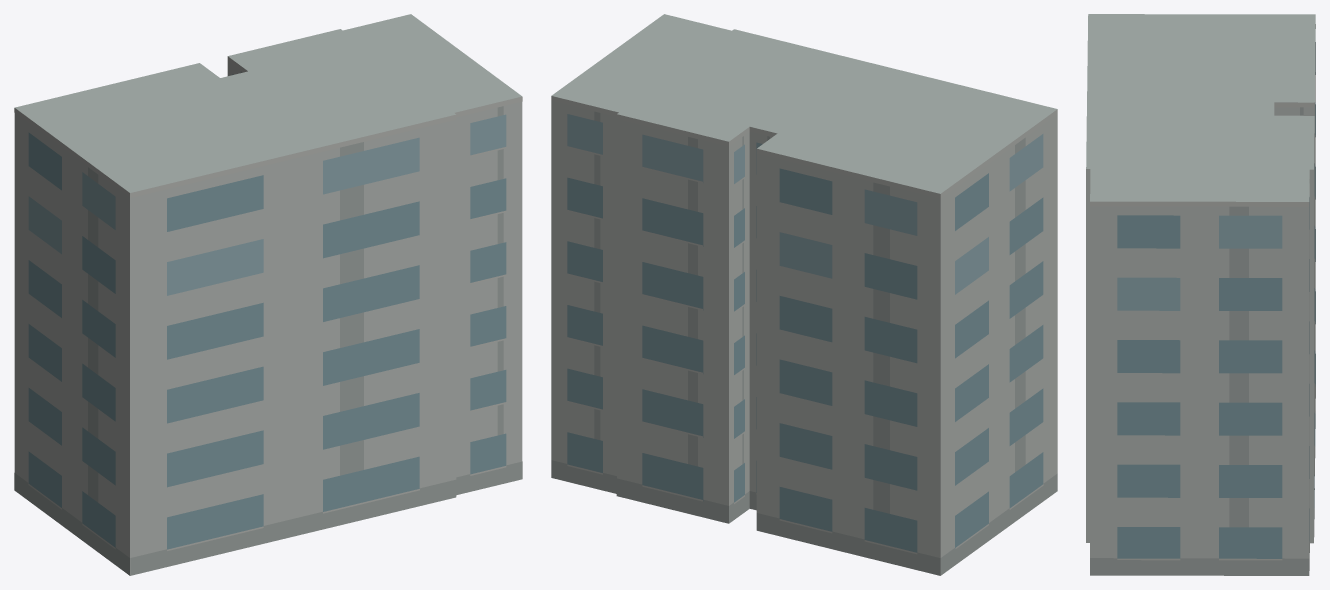
Rendered from survey-upis-32952798.glb.
The picture shows the model from 3 angles, left to right: view 1: azimuth 30°, elevation 25°; view 2: azimuth 150°, elevation 25°; view 3: azimuth 270°, elevation 25°; orthographic projection. The views are drawn at different scales.
Visible parts, largest first — view 1: survey-upis-32952798.tmp; view 2: survey-upis-32952798.tmp; view 3: survey-upis-32952798.tmp.
Part boxes in pixels (box(x1,y1,x2,y2)): survey-upis-32952798.tmp: box(14, 14, 522, 575); survey-upis-32952798.tmp: box(551, 14, 1057, 575); survey-upis-32952798.tmp: box(1086, 14, 1315, 575).
Size of the model in its own units: 19.74 by 18.3 by 10.2.
